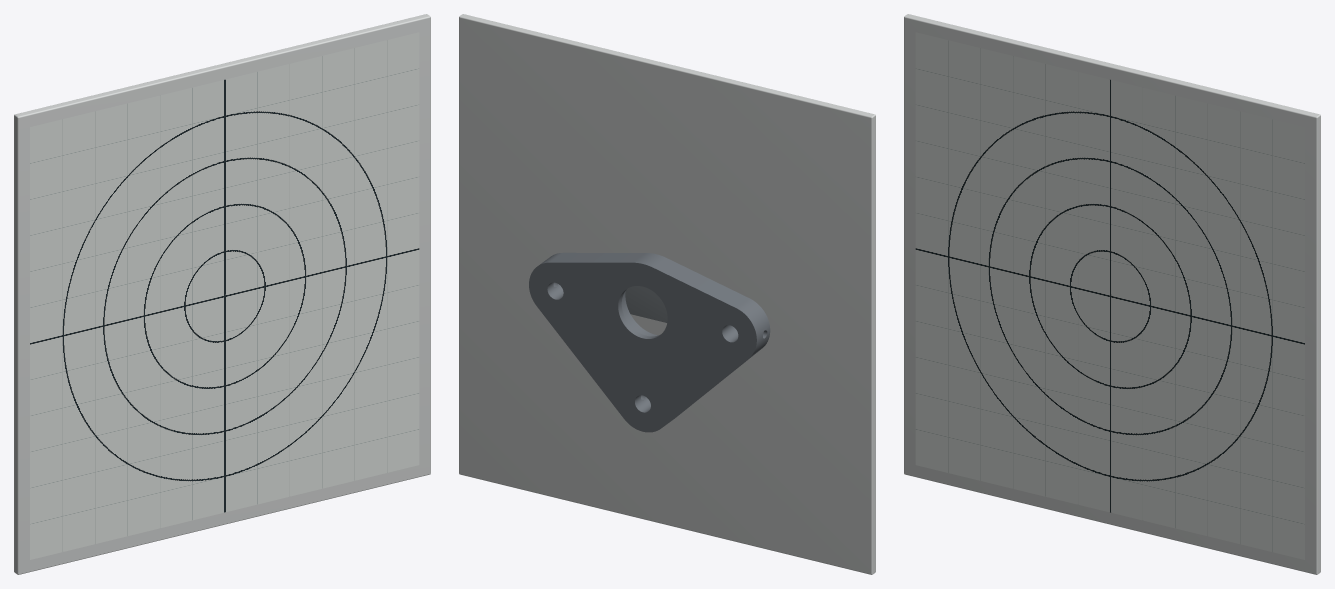
The model's file is TARGET.glb.
3 views of the same model, side by side, from view 1: azimuth 30°, elevation 25°; view 2: azimuth 150°, elevation 25°; view 3: azimuth 330°, elevation 25° (orthographic).
Parts seen in each view (by area): view 1: TARGET/printed_passive_target, TARGET/0001_target_screen_card; view 2: TARGET/0001_target_screen_card, TARGET/0000_Winters_target_mount, TARGET/0002_target_card_mounting_pad; view 3: TARGET/printed_passive_target, TARGET/0001_target_screen_card.
Boxes of the visible parts, x1=… form: TARGET/printed_passive_target: x1=30, y1=32, x2=419, y2=559; TARGET/0001_target_screen_card: x1=14, y1=14, x2=430, y2=574; TARGET/0001_target_screen_card: x1=459, y1=14, x2=875, y2=574; TARGET/0000_Winters_target_mount: x1=529, y1=252, x2=770, y2=432; TARGET/0002_target_card_mounting_pad: x1=625, y1=286, x2=667, y2=322; TARGET/printed_passive_target: x1=915, y1=32, x2=1304, y2=559; TARGET/0001_target_screen_card: x1=904, y1=14, x2=1320, y2=574.
Size of the model in its own units: 0.17 by 0.18 by 0.0191.
Materials: 4 (1 with a texture image).
